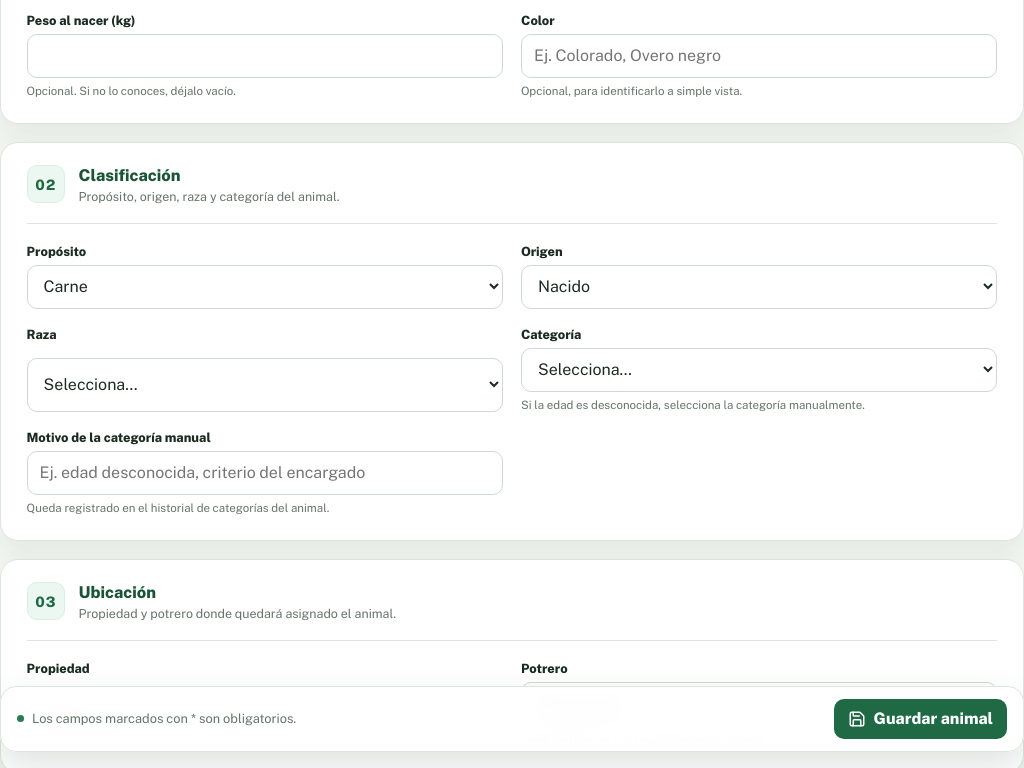
it: NuevoAnimalPage › vuelve al selector de raza si el usuario borra por completo el texto escrito
This screenshot has width=1024, height=768.
(page scrolled)
Seleccionar Otro...
Select "Otro…" in the dropdown labelled "Raza" at coordinates (265, 385), box [28,364,502,405]
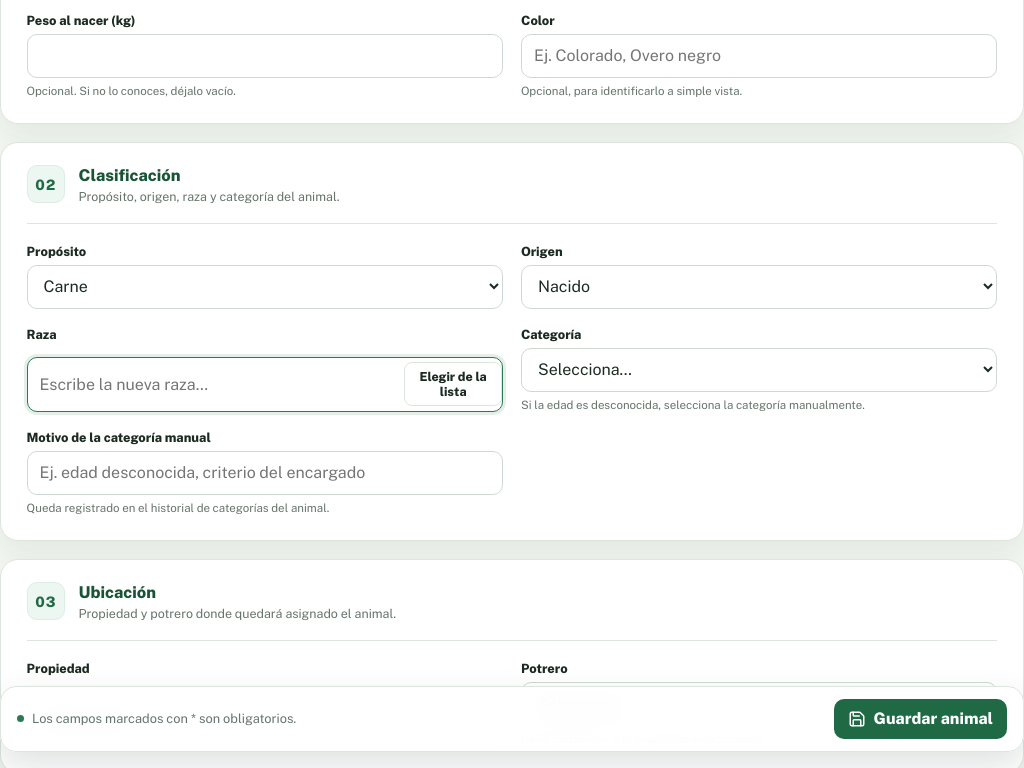
Expected: the field with placeholder "Escribe la nueva raza…" is shown
Escribir algo
Type "Brahman Rojo" into the field with placeholder "Escribe la nueva raza…" at coordinates (216, 384), box [28,365,404,404]
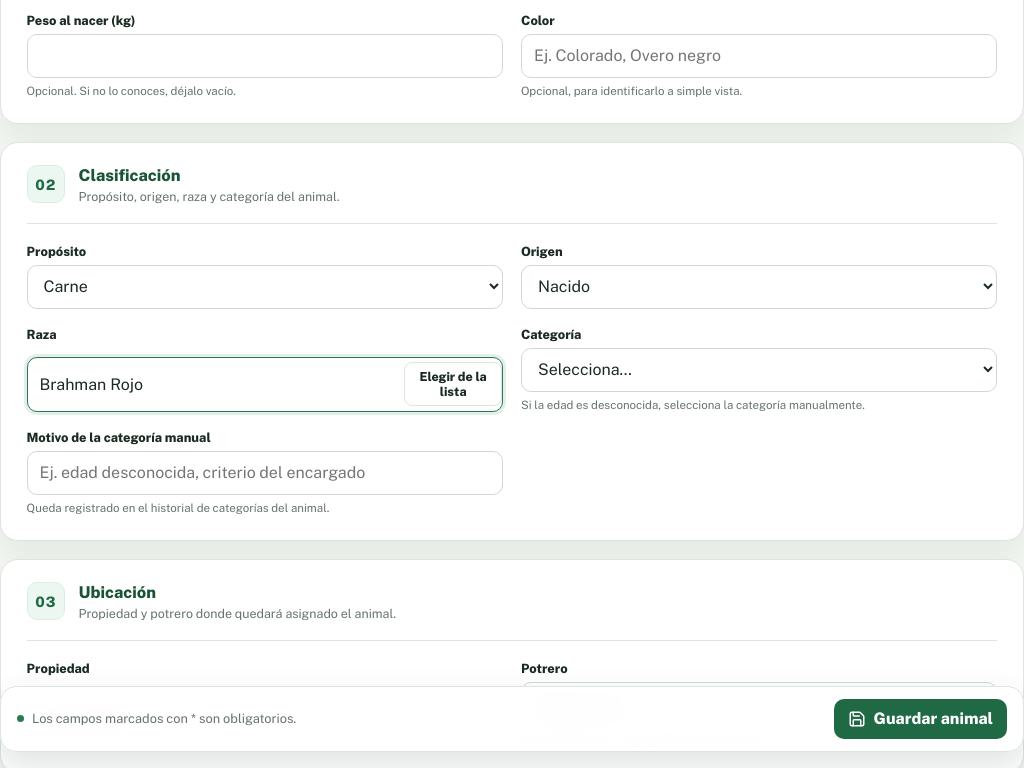
Clear the field with placeholder "Escribe la nueva raza…" at coordinates (216, 384), box [28,365,404,404]
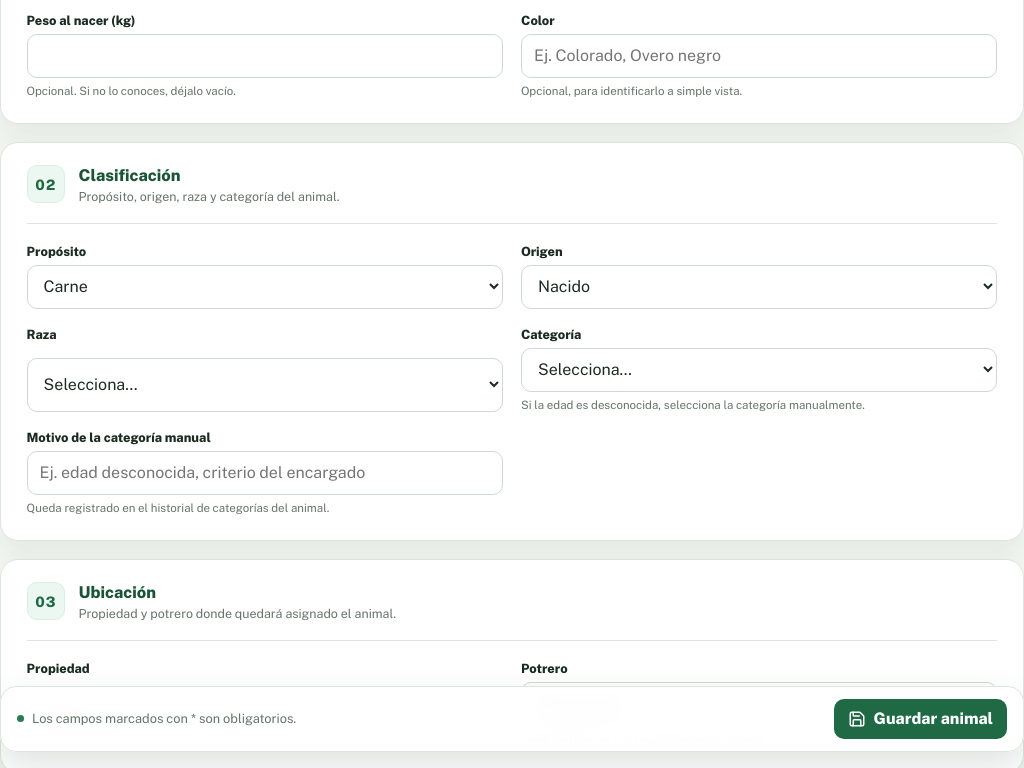
Expected: the field with placeholder "Escribe la nueva raza…" is not shown
Expected: the dropdown labelled "Raza" is shown, [28,364,502,405]
